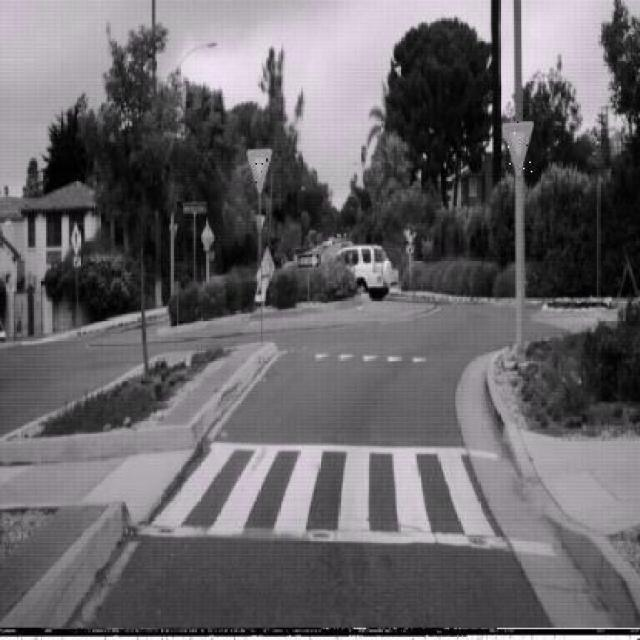yield: (502, 120, 536, 177), (246, 148, 273, 194)
